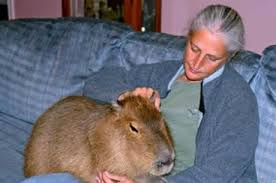capivara: (23, 95, 176, 183)
